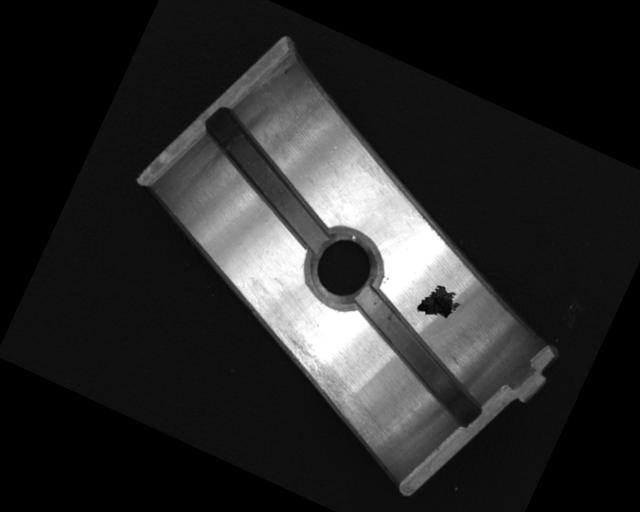blot: (414, 278, 467, 329)
gap: (178, 106, 358, 254), (327, 286, 506, 430)
hole: (292, 217, 393, 320)
scratch: (240, 321, 406, 448)
